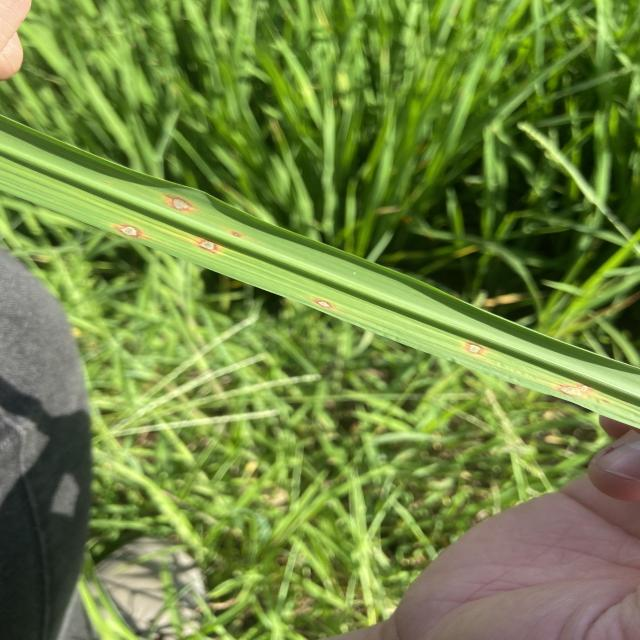Dao on: (561, 386, 589, 396), (171, 198, 189, 210), (119, 226, 137, 236), (469, 344, 482, 353), (200, 241, 214, 249), (317, 301, 331, 307), (235, 232, 238, 236)
